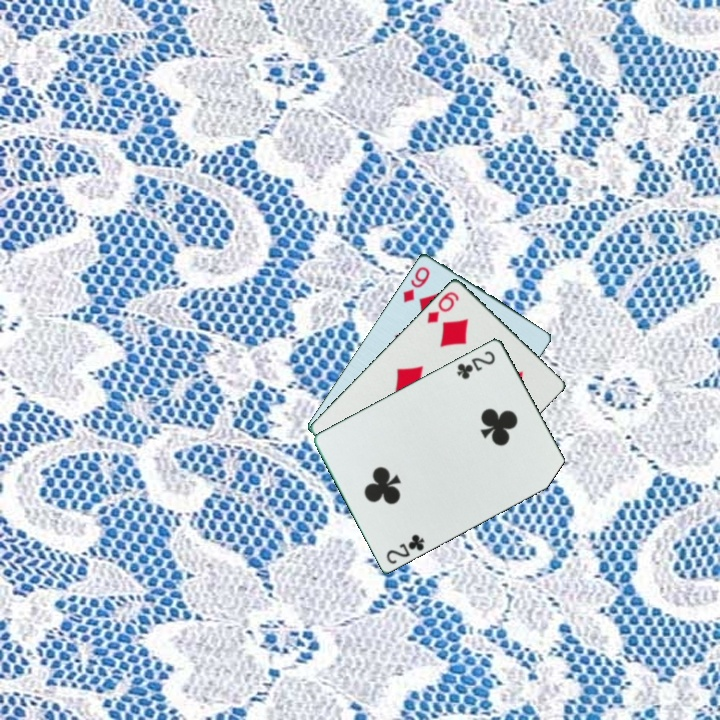2c: (383, 530, 428, 567), (453, 347, 498, 382)
6d: (423, 287, 462, 326)
9d: (399, 263, 433, 305)
